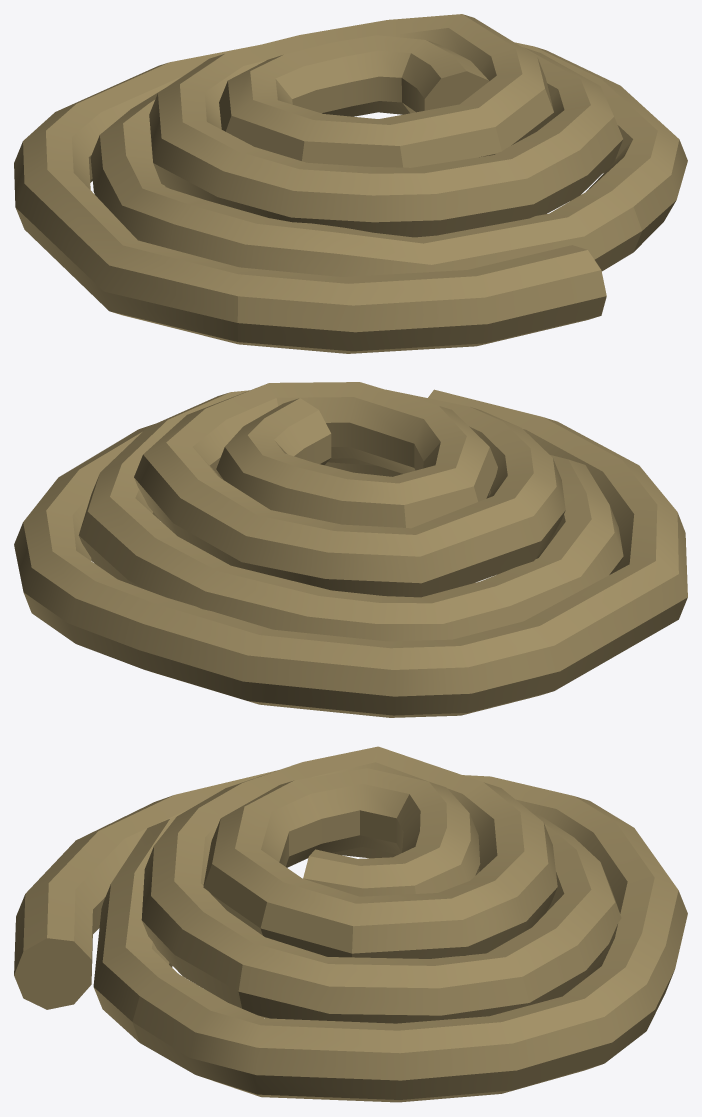
File: MO_Rope.fbx
The picture shows the model from 3 angles, top to bottom: view 1: azimuth 30°, elevation 25°; view 2: azimuth 150°, elevation 25°; view 3: azimuth 270°, elevation 25°; orthographic projection. The views are drawn at different scales.
Visible parts, largest first — view 1: pCylinder1; view 2: pCylinder1; view 3: pCylinder1.
Boxes of the visible parts, x1=… form: pCylinder1: x1=14, y1=14, x2=687, y2=353; pCylinder1: x1=14, y1=382, x2=687, y2=717; pCylinder1: x1=14, y1=746, x2=687, y2=1102.
Size of the model in its own units: 6.3 by 1.59 by 6.16.
